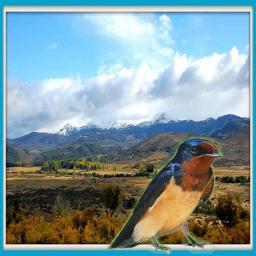Swallow: (106, 137, 223, 254)
